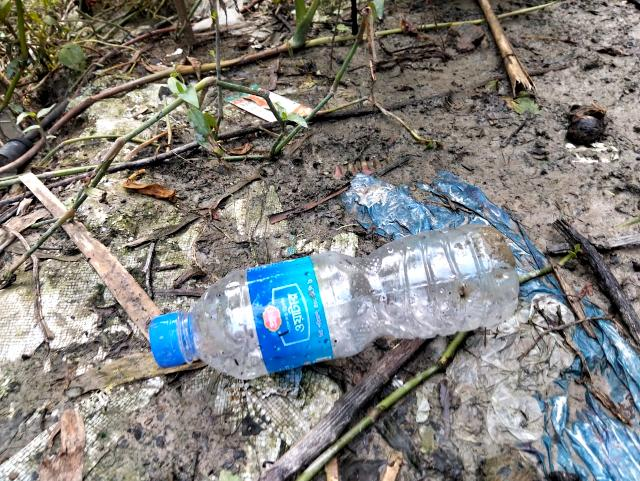bottle: (144, 214, 507, 386)
